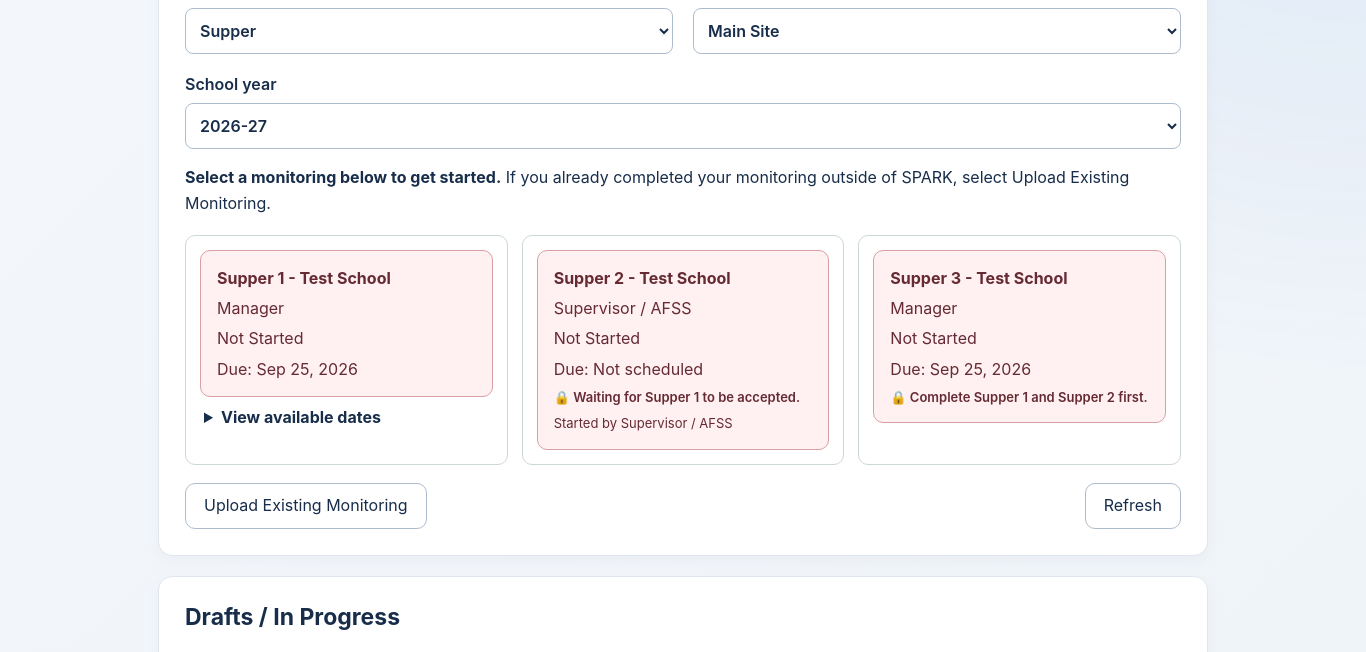
Test: a failed save preserves data and prevents navigation
(page scrolled)
Click the button "Supper 1 - Test School Manager Not Started Due: Sep 25, 2026" at (304, 278), box [200,250,493,397]
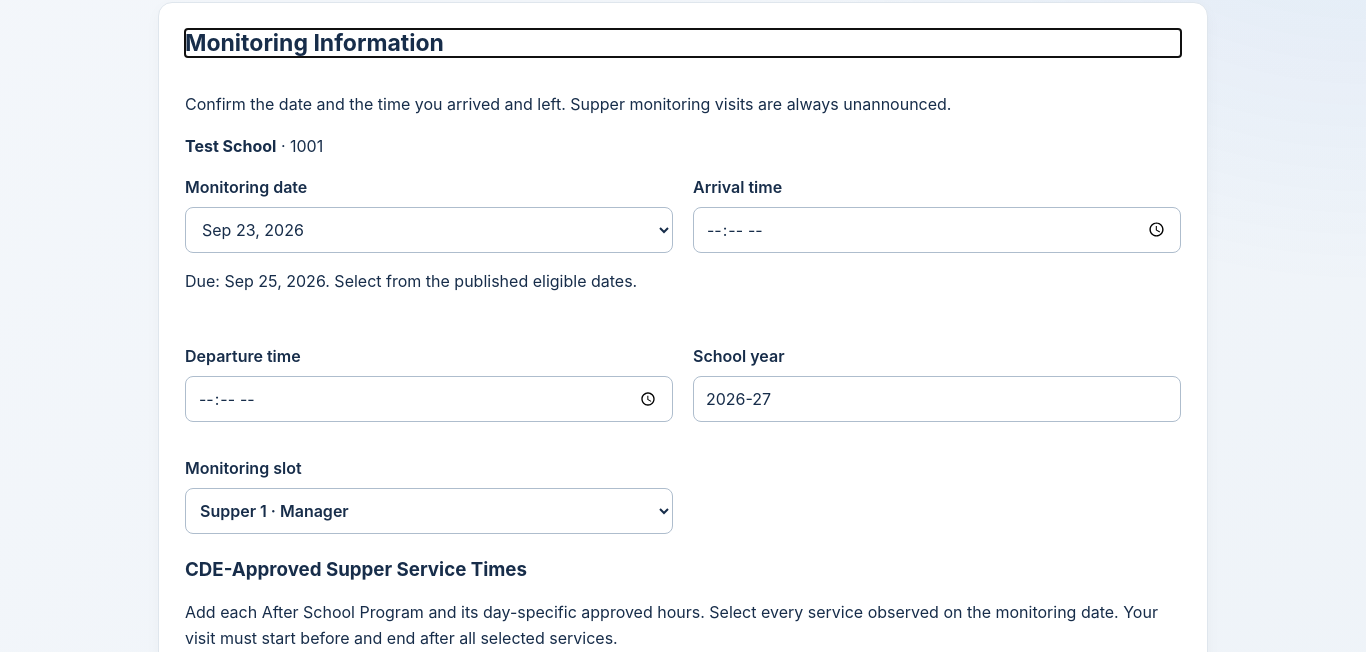
Select "Sep 23, 2026" in the dropdown with id "monitoringDate" at (429, 230), box [185,207,673,253]
(page scrolled)
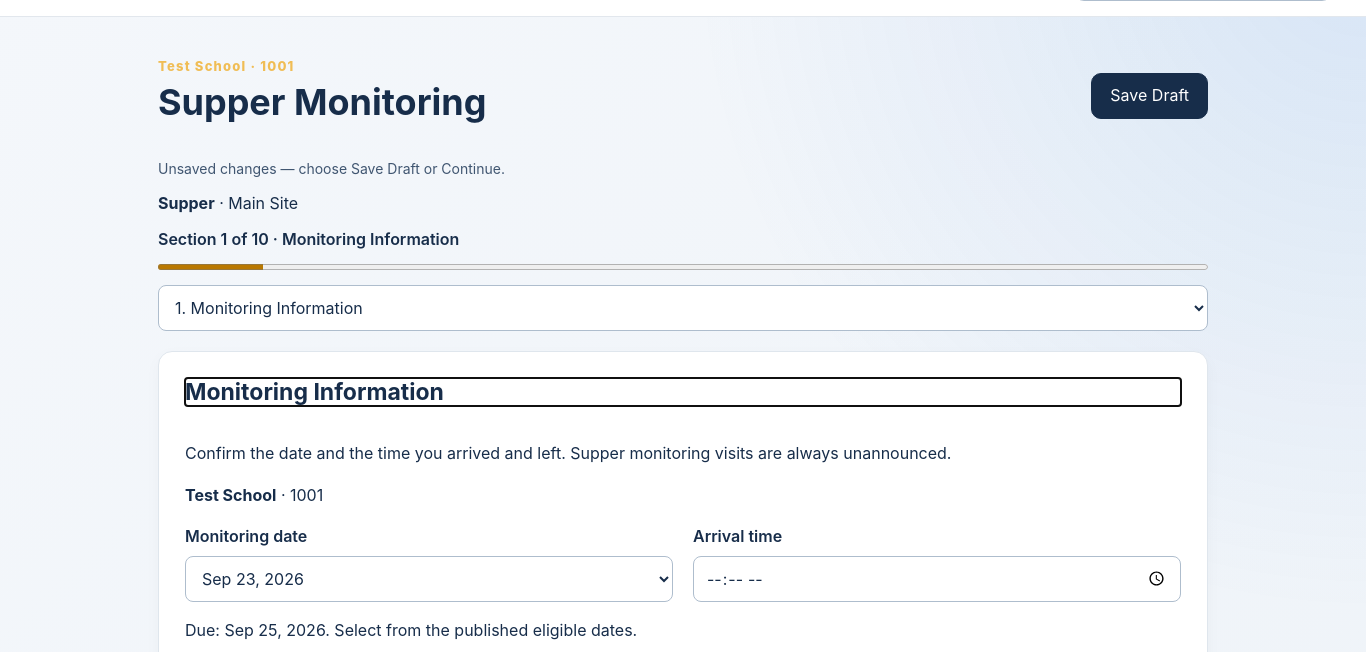
Expected: the button "Save Draft" is shown
Click the button "Save Draft" at (1150, 96), box [1091,72,1208,118]
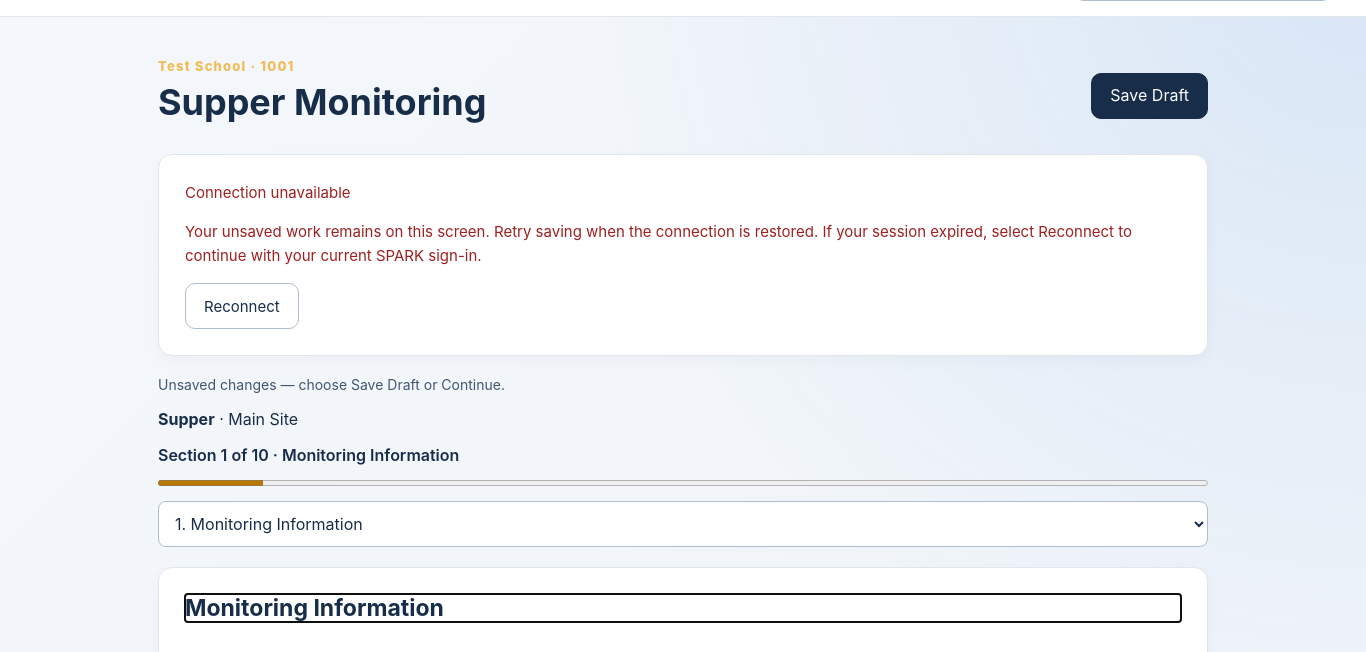
Expected: the heading "Monitoring Information" is shown, [185,594,444,622]
Expected: the message that starts with "Connection unavailable" is shown, [185,183,351,202]
